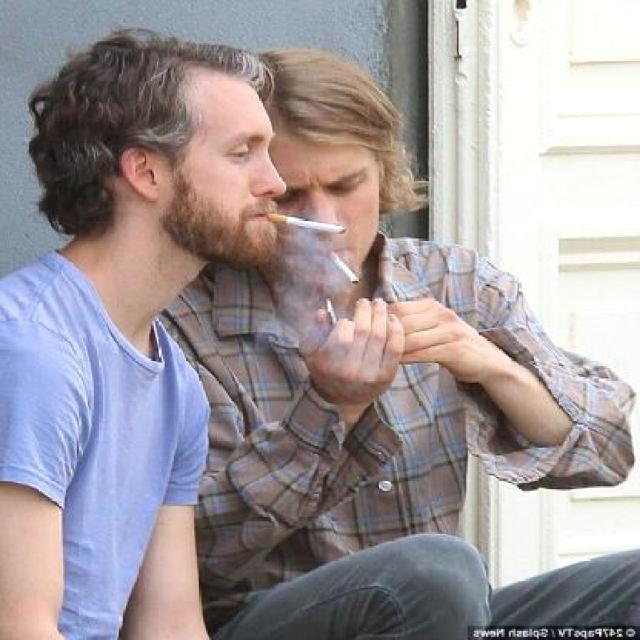cigarette: (260, 211, 346, 237), (322, 246, 361, 286)
